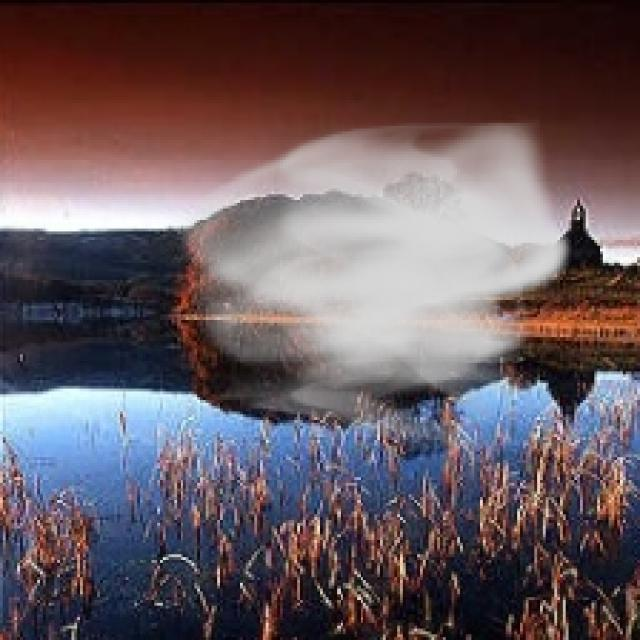Smoke: (166, 112, 574, 454)
